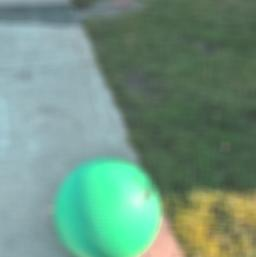algae: (53, 155, 160, 257)
